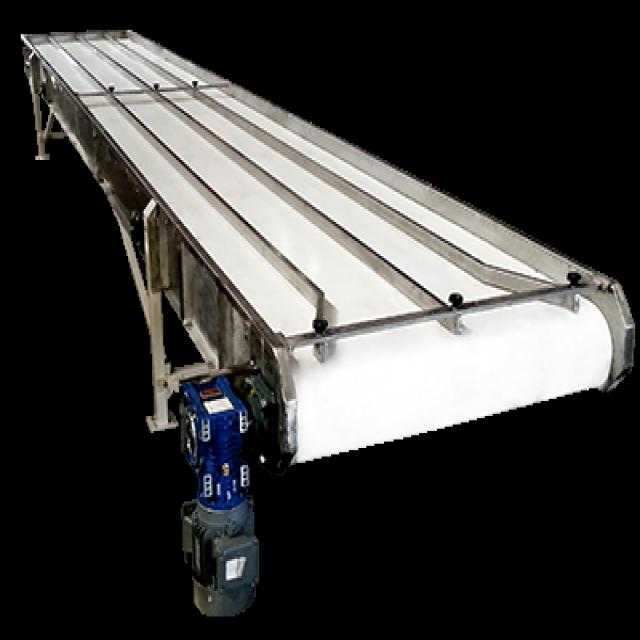conveyor: (5, 6, 640, 512)
